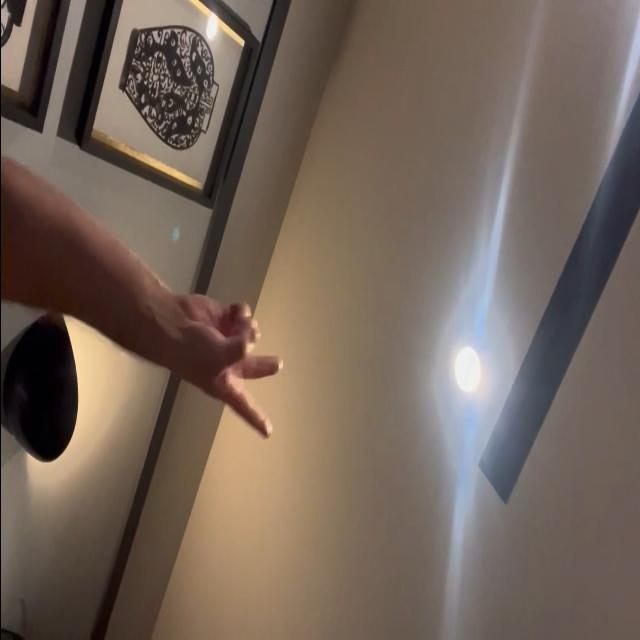Scissors: (158, 292, 282, 446)
